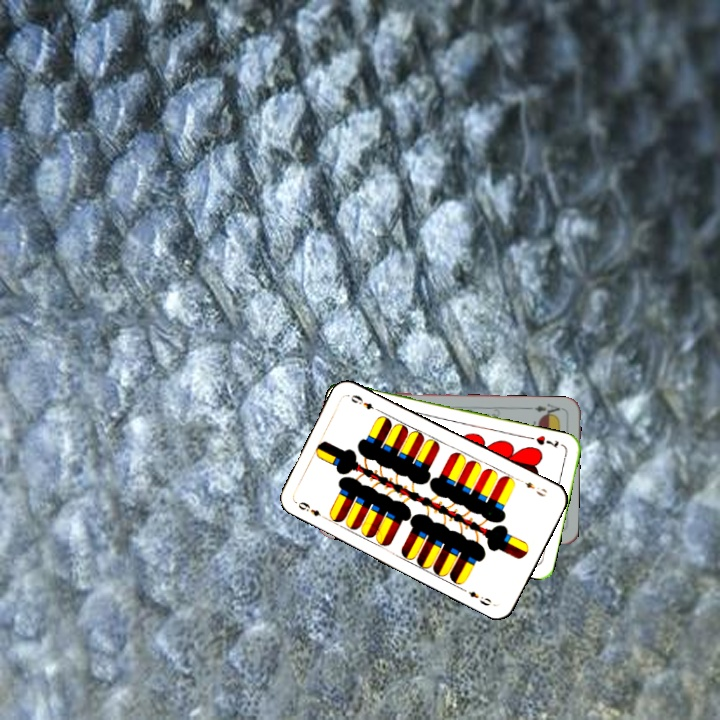E9: (294, 498, 324, 519), (521, 478, 550, 499)
EA: (525, 399, 562, 419)
H7: (532, 432, 561, 451)
